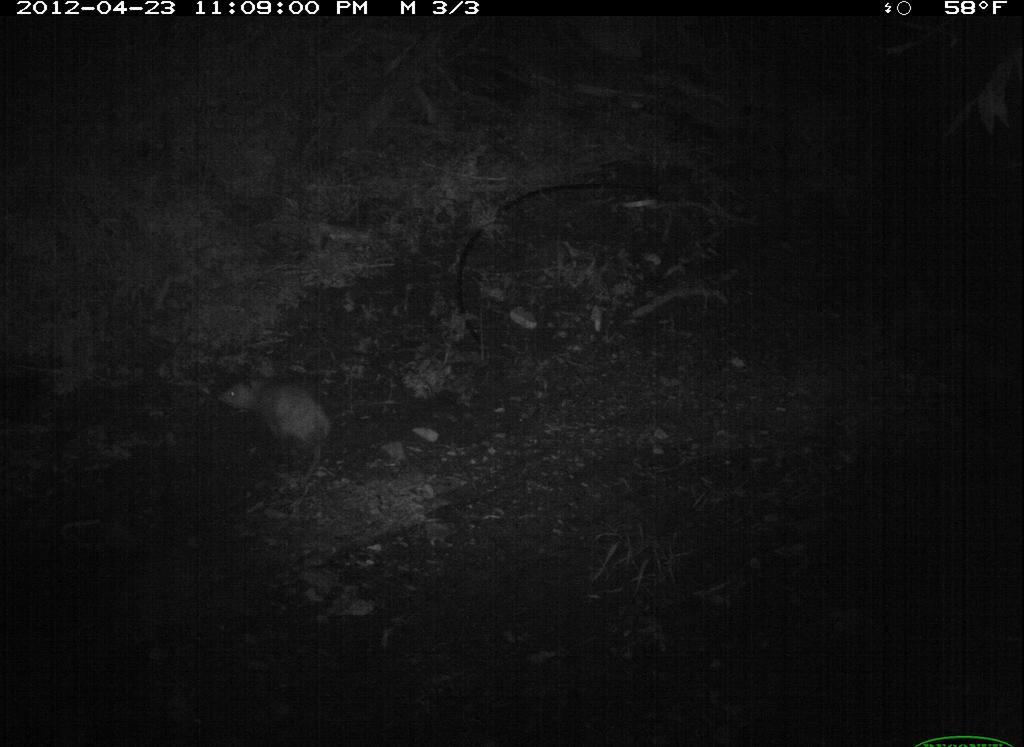opossum: (216, 373, 344, 509)
